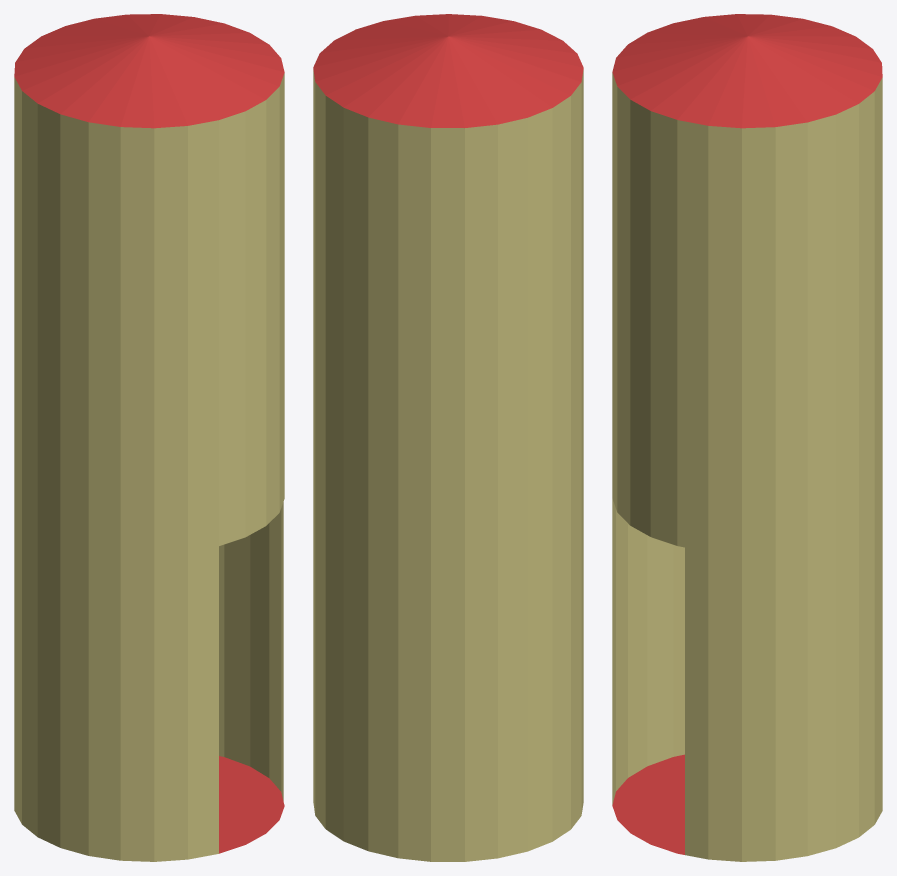
3 renders of one model, left to right at view 1: azimuth 30°, elevation 25°; view 2: azimuth 150°, elevation 25°; view 3: azimuth 270°, elevation 25°, orthographic.
Bounding box in the file's own units: 7.17 × 7.17 × 22.48.
